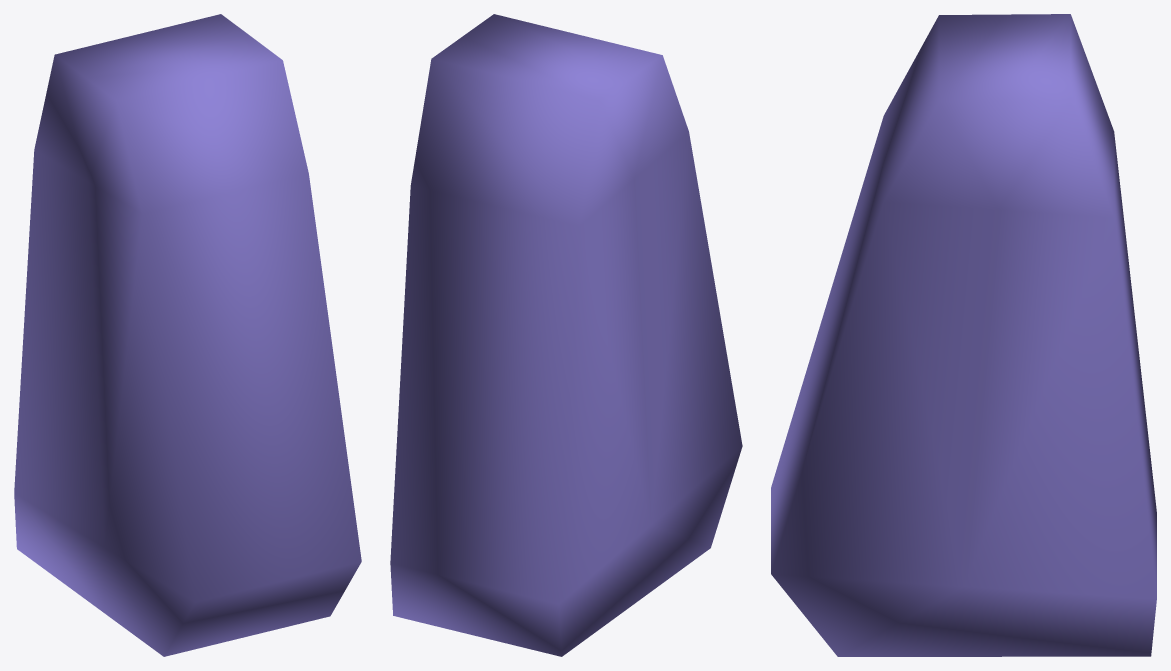
Rendered from Rock_Heavy_SPR_COL.fbx.
3 renders of one model, left to right at view 1: azimuth 30°, elevation 25°; view 2: azimuth 150°, elevation 25°; view 3: azimuth 270°, elevation 25°, orthographic. The views are drawn at different scales.
Parts seen in each view (by area): view 1: Rock_Heavy_SPR_COL; view 2: Rock_Heavy_SPR_COL; view 3: Rock_Heavy_SPR_COL.
Part boxes in pixels (bbox=[...]): Rock_Heavy_SPR_COL: bbox=[14, 14, 361, 656]; Rock_Heavy_SPR_COL: bbox=[390, 14, 742, 656]; Rock_Heavy_SPR_COL: bbox=[771, 14, 1156, 656].
Size of the model in its own units: 66.62 by 200 by 126.
